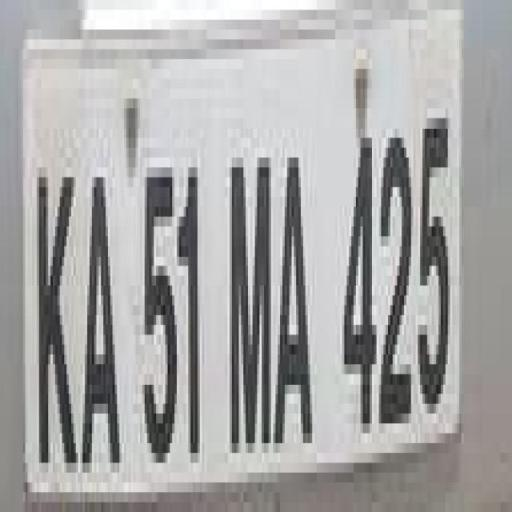number plate: (6, 9, 479, 512)
